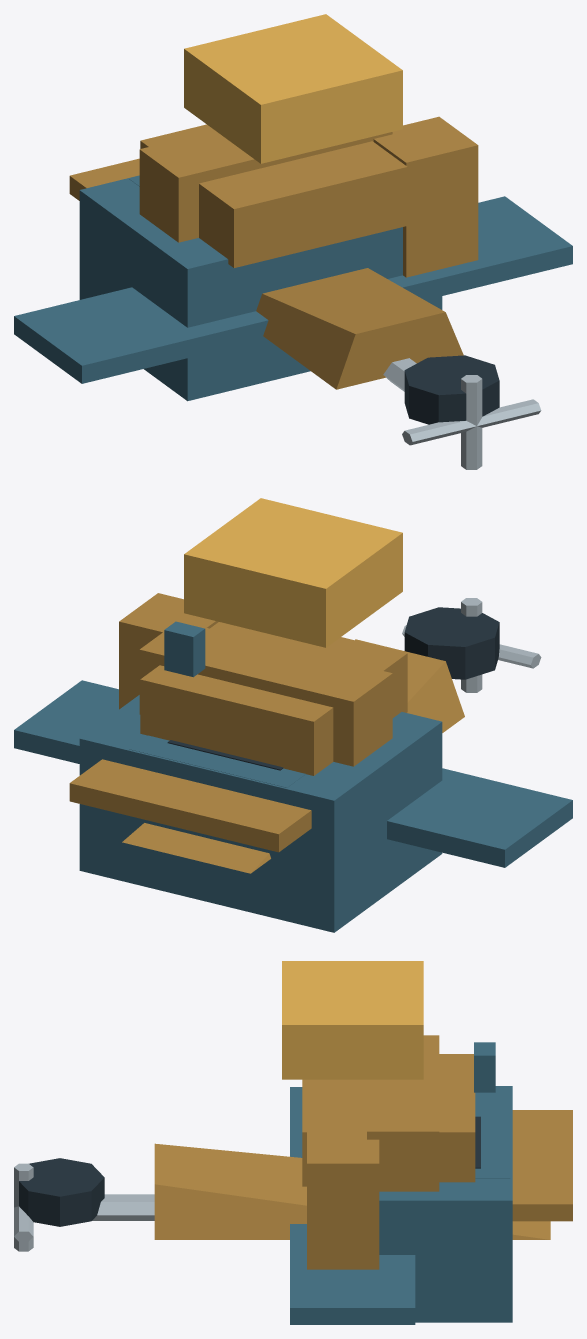
The model's file is air-transport.obj.
The picture shows the model from 3 angles, top to bottom: view 1: azimuth 30°, elevation 25°; view 2: azimuth 150°, elevation 25°; view 3: azimuth 270°, elevation 25°; orthographic projection. The views are drawn at different scales.
Visible parts, largest first — view 1: air; view 2: air; view 3: air.
Part boxes in pixels (<box>): air: <box>14,14,572,469</box>; air: <box>14,498,572,932</box>; air: <box>14,961,572,1324</box>.
Size of the model in its own units: 2.18 by 1.25 by 2.33.
